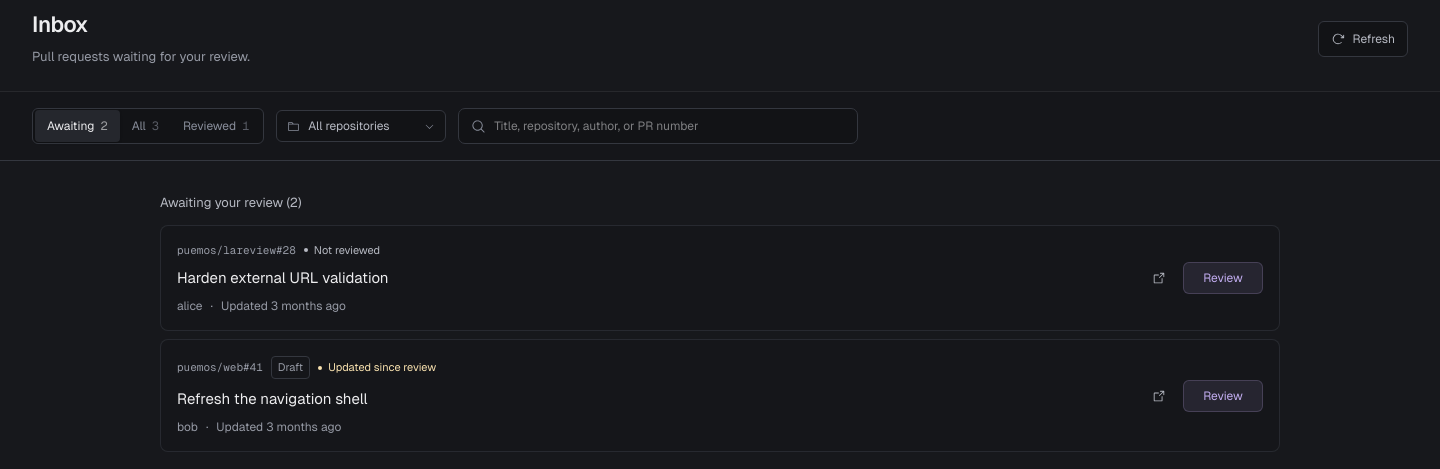
Test: InboxView › searches across candidate metadata and clears the query
Type "web" into the search field named "Search inbox" at [670, 126], box [494,109,845,143]
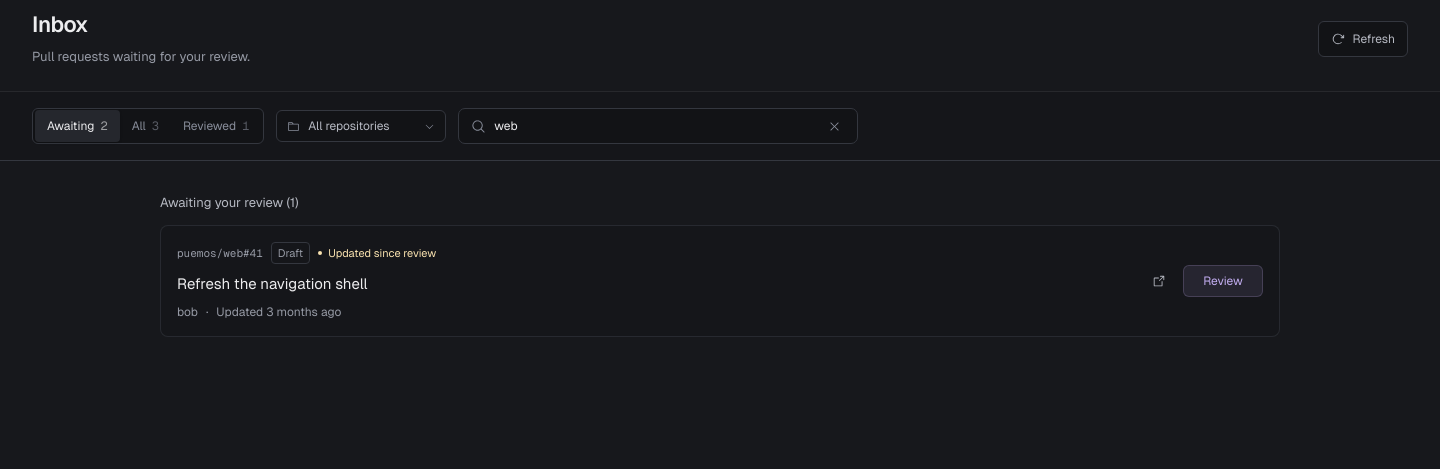
Expected: the text "Refresh the navigation shell" is shown, [177,274,368,293]
Expected: the text "Harden external URL validation" is gone
Click the button named "Clear inbox search" at [835, 126], box [824,116,845,137]
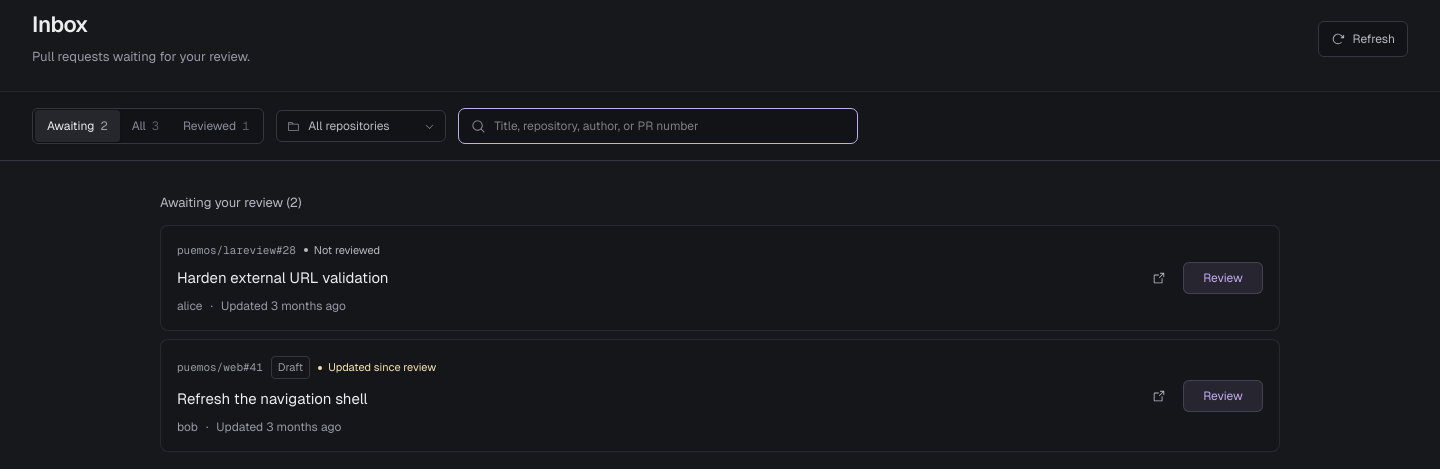
Expected: the text "Harden external URL validation" is shown, [177,268,388,287]
